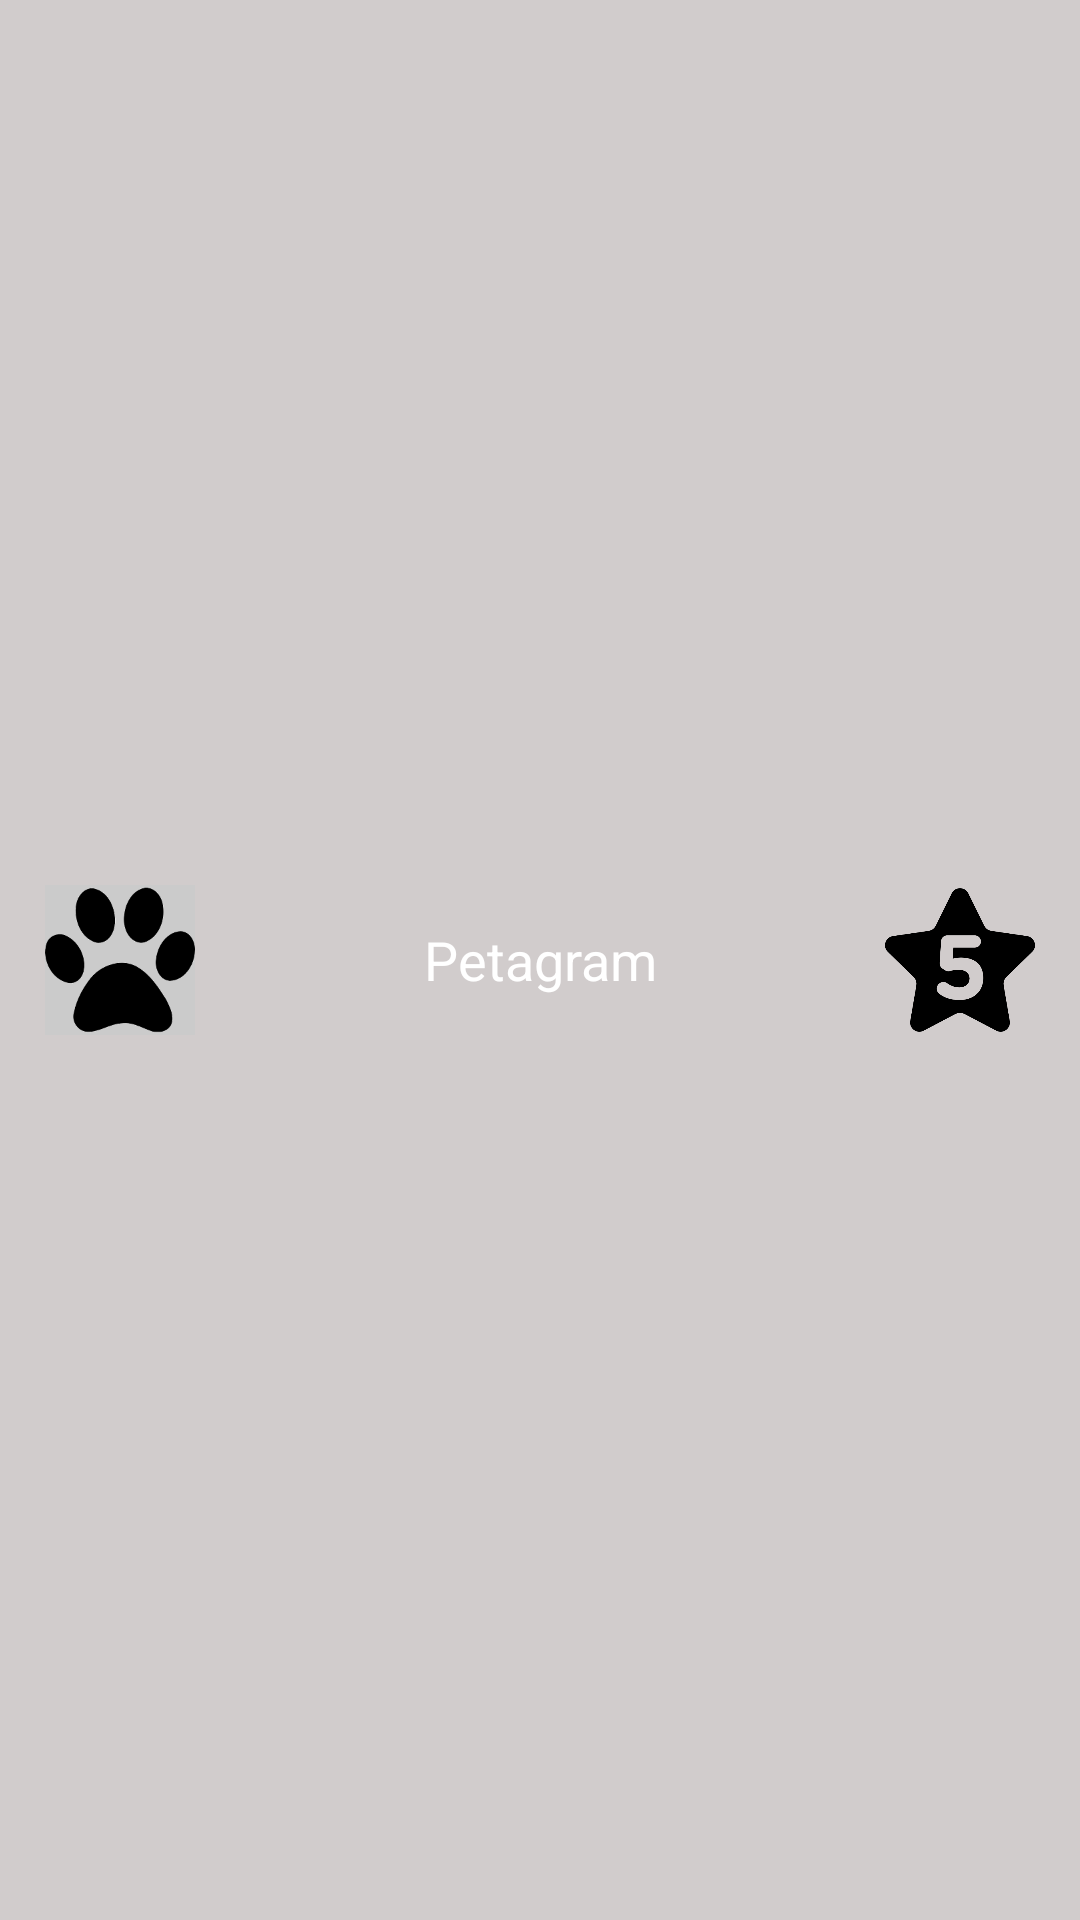

Icon click points for this 1080w x 1920h phone screenshot, format [x,y]:
Favoritos: [960,960]
